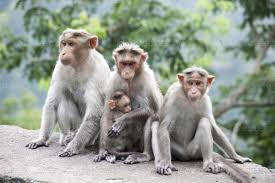monkey: (156, 58, 253, 183), (44, 12, 101, 179), (110, 23, 165, 174)
